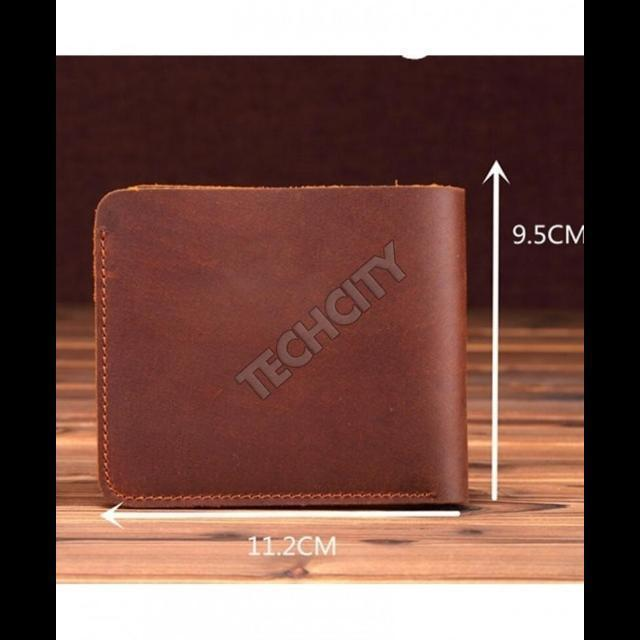wallet: (93, 184, 469, 506)
